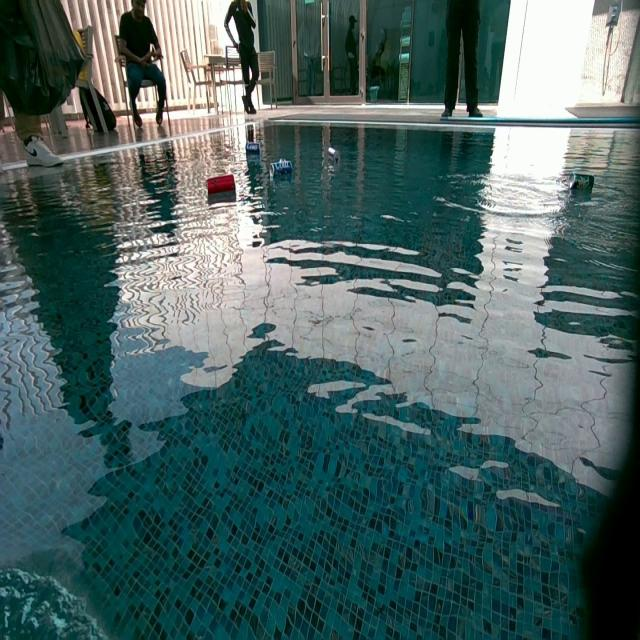Cans: (569, 171, 595, 194), (207, 176, 235, 195), (272, 159, 294, 179), (327, 146, 342, 164), (246, 142, 262, 155)
